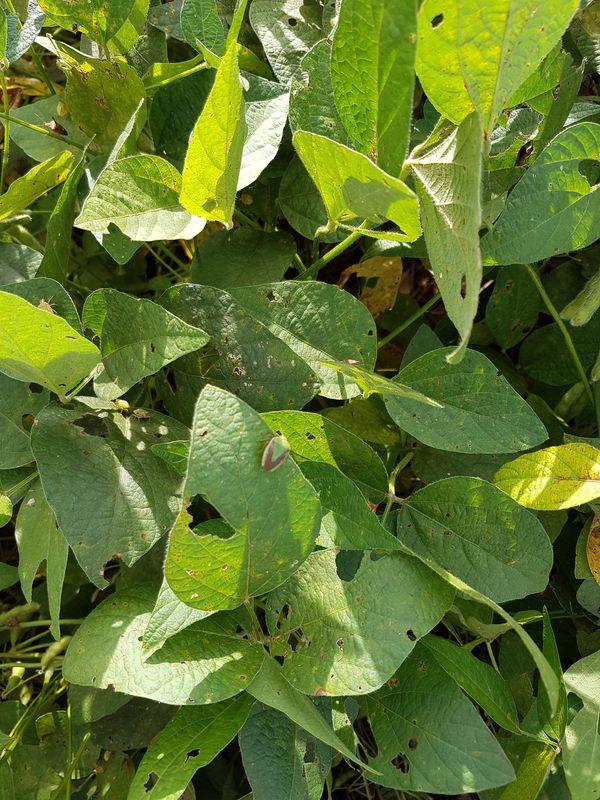Edessa_meditabunda: (250, 419, 303, 483)
Euschistus_heros_adulto: (40, 117, 73, 141)
Euschistus_heros_ninfa: (109, 395, 132, 415), (131, 405, 153, 423), (235, 190, 255, 208), (54, 98, 73, 116)
